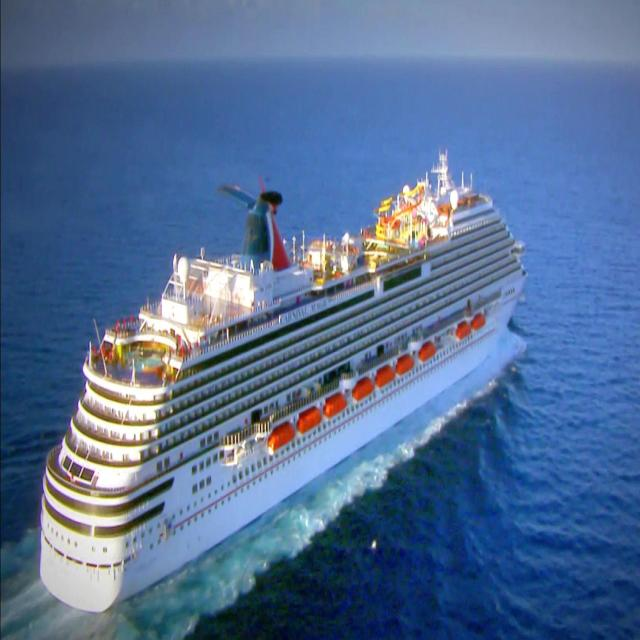passenger ship: (35, 147, 523, 603)
